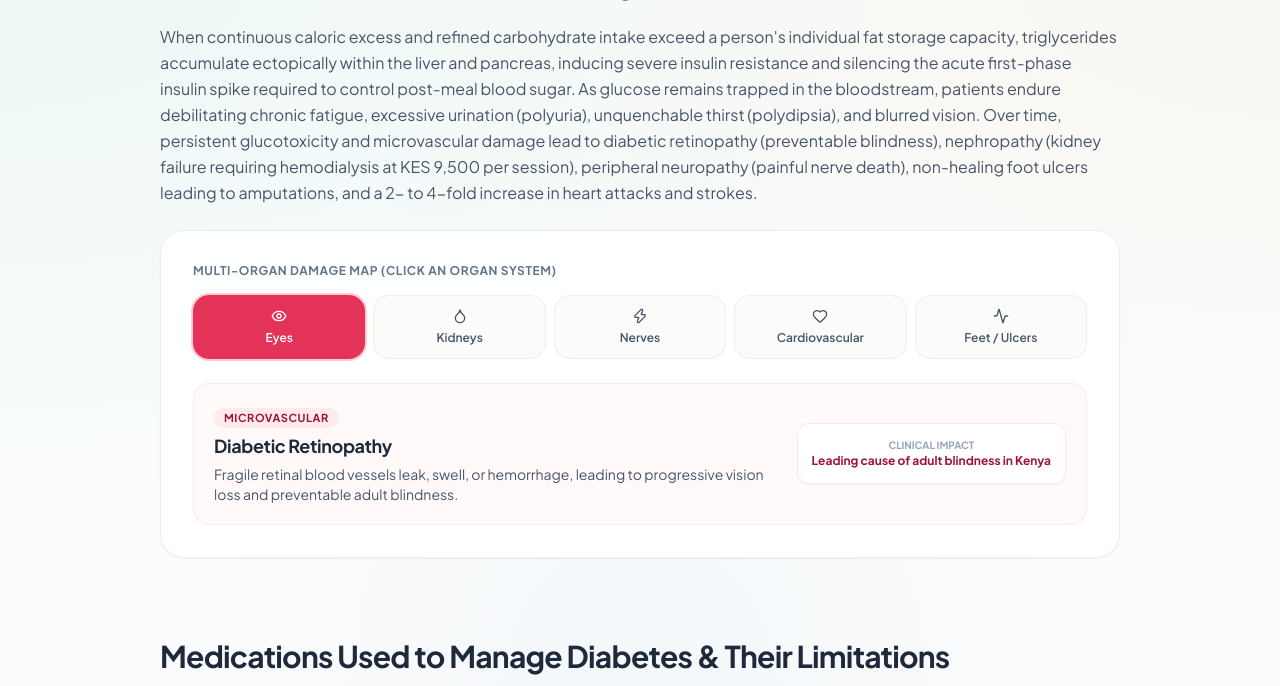
Scenario: LandingPage Component › renders Section 3: How patients get affected and organ interaction
(page scrolled)
Click the button "Kidneys". click: (460, 326)
box: top-left (373, 294), bottom-right (546, 358)
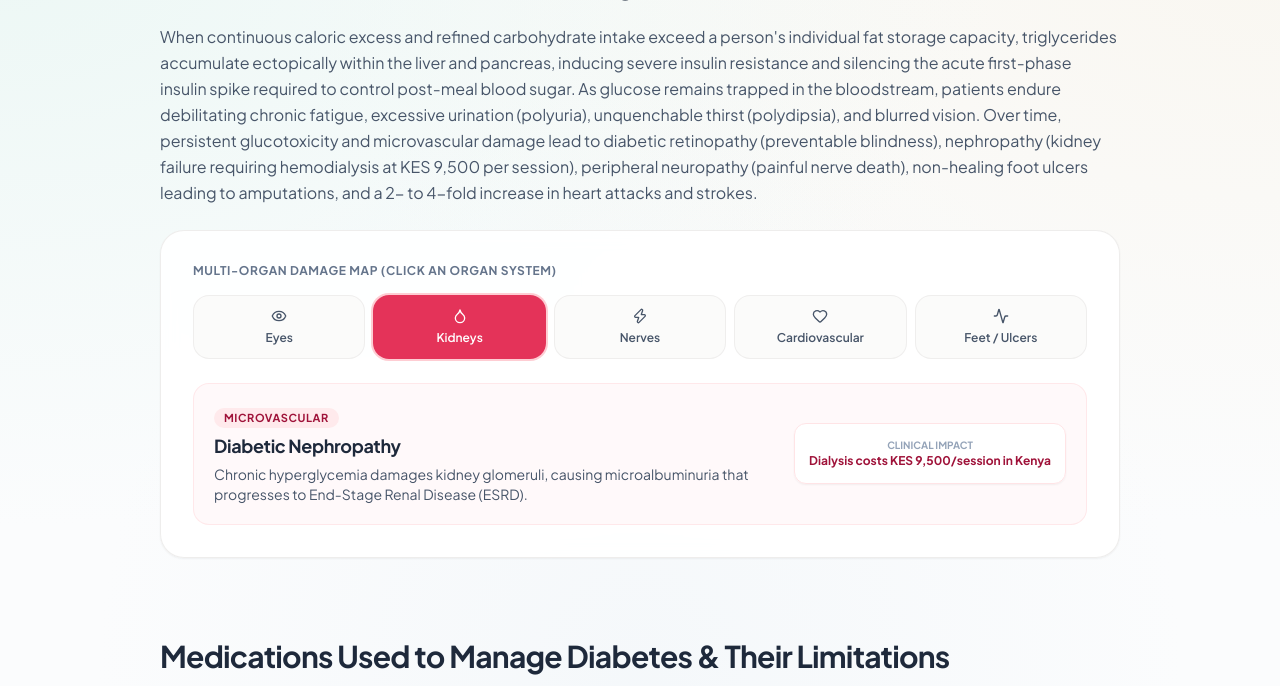
Expected: the heading "Diabetic Nephropathy" is shown, top-left (214, 434), bottom-right (401, 457)
Expected: the text "Dialysis costs KES 9,500/session in Kenya" is shown, top-left (809, 453), bottom-right (1051, 469)
Click the button "Eyes". click: (279, 326)
box: top-left (193, 294), bottom-right (365, 358)
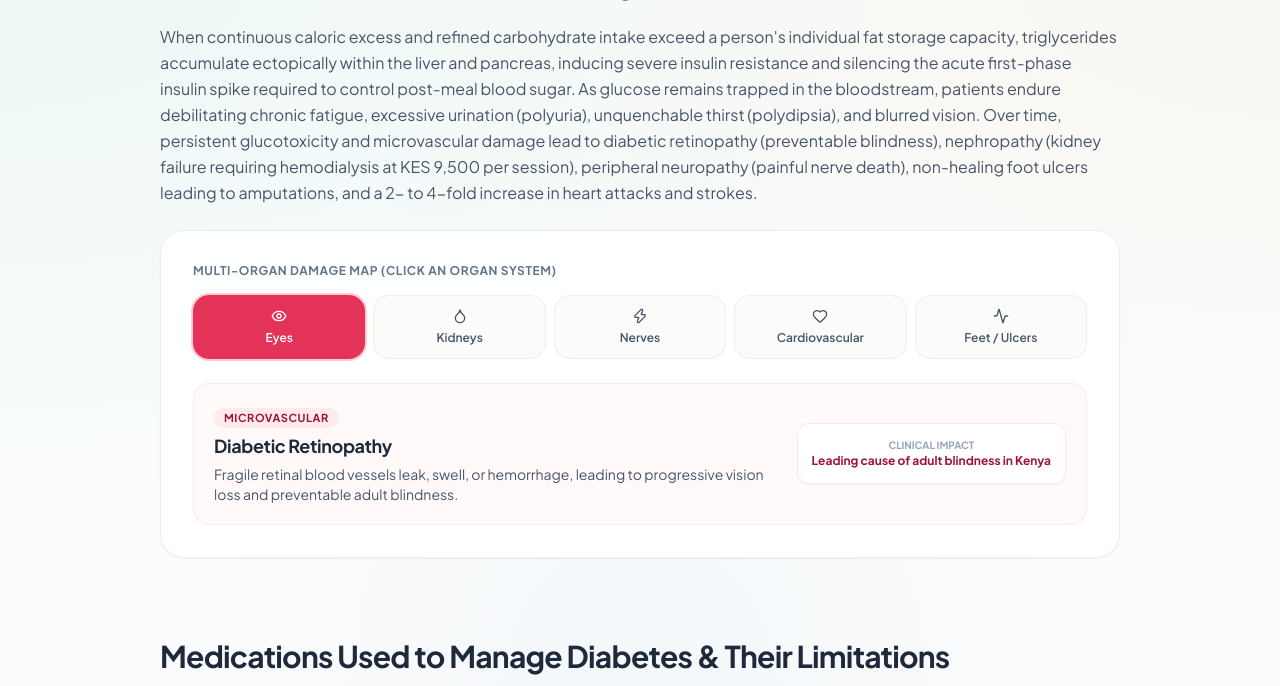
Expected: the heading "Diabetic Retinopathy" is shown, top-left (214, 434), bottom-right (392, 457)
